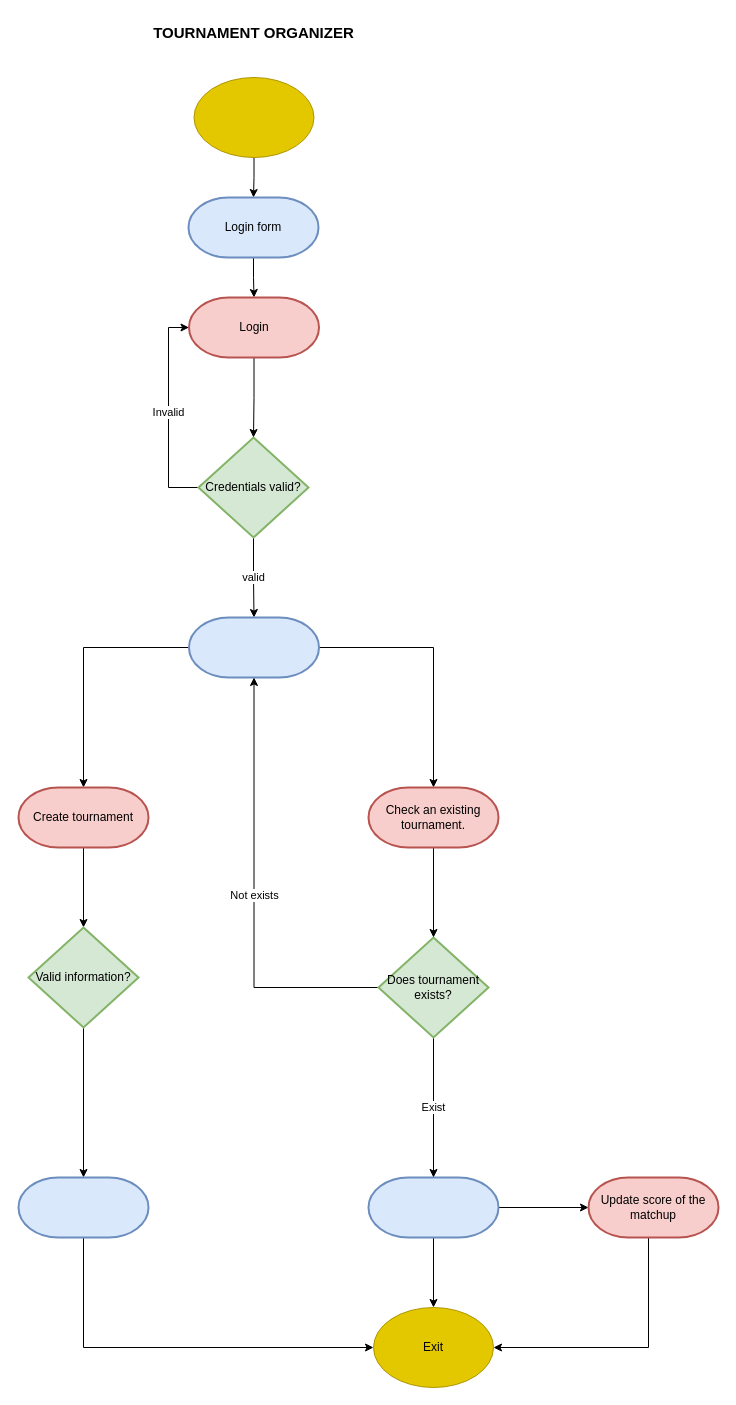
Image size: 736x1405. Some labels were removed from this diagram. Here are the shapes that lost their labels. From the top down, the box of each, then its label:
(193, 76, 314, 158): Start
(188, 616, 320, 678): Tournament dashboard form
(17, 1176, 149, 1238): Create tournament successfully!
(367, 1176, 499, 1238): Display tournament viewer form
